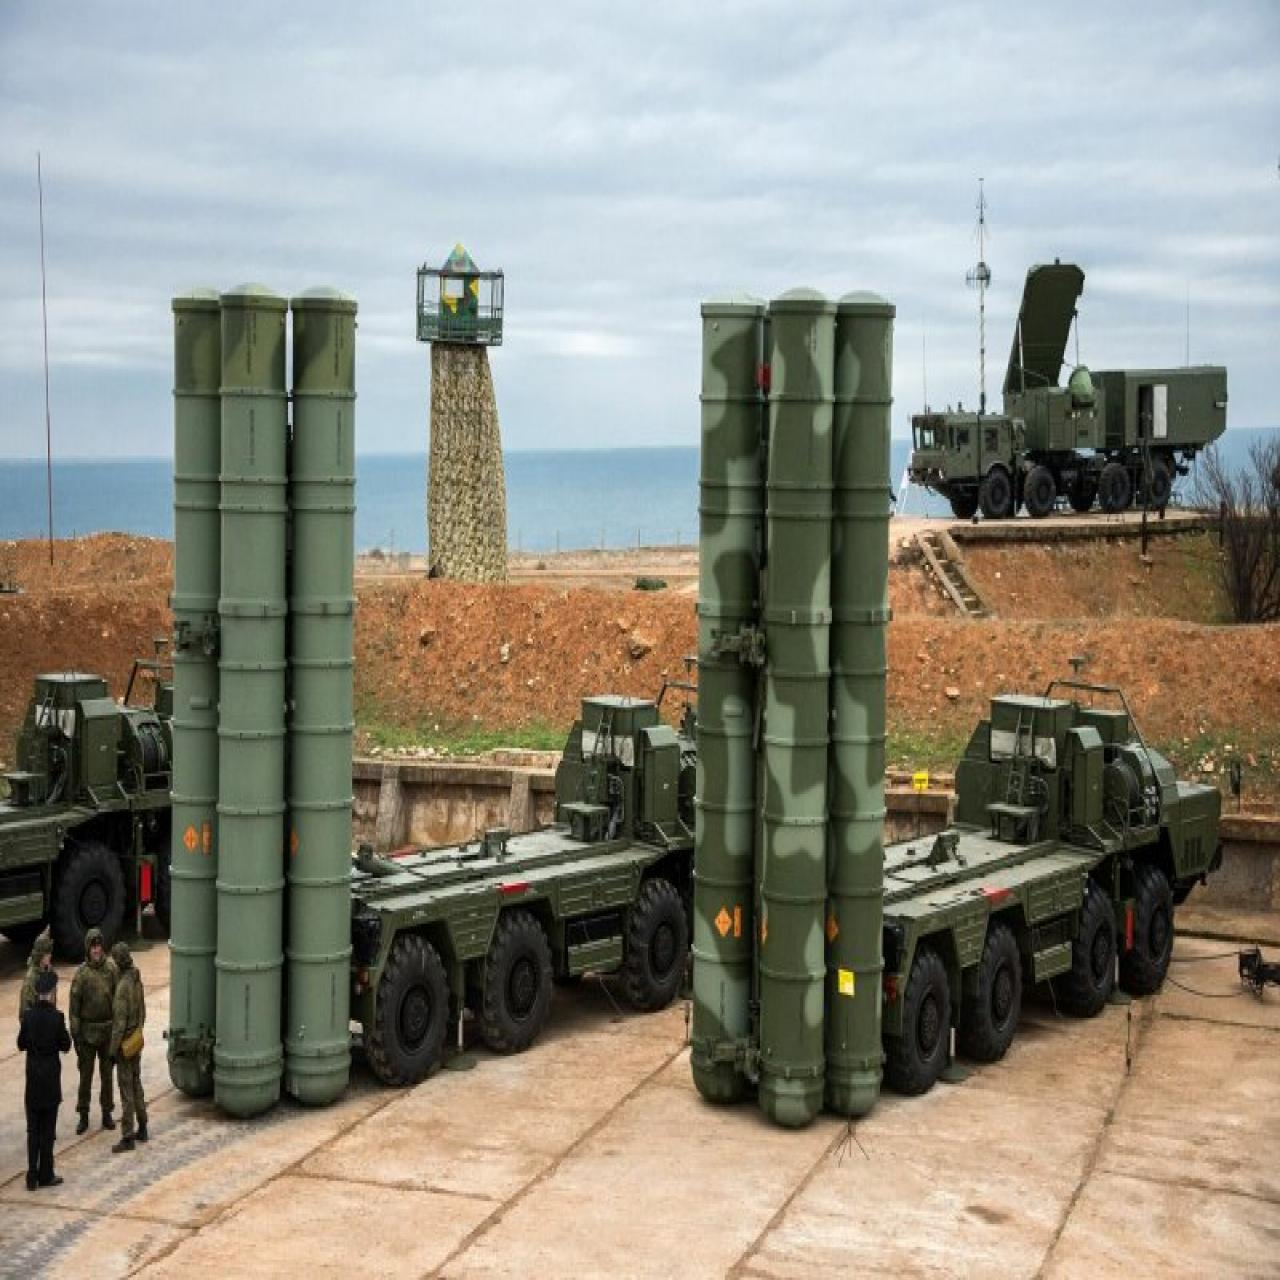MIL_Veh: (695, 289, 1225, 1129), (168, 292, 694, 1112)
